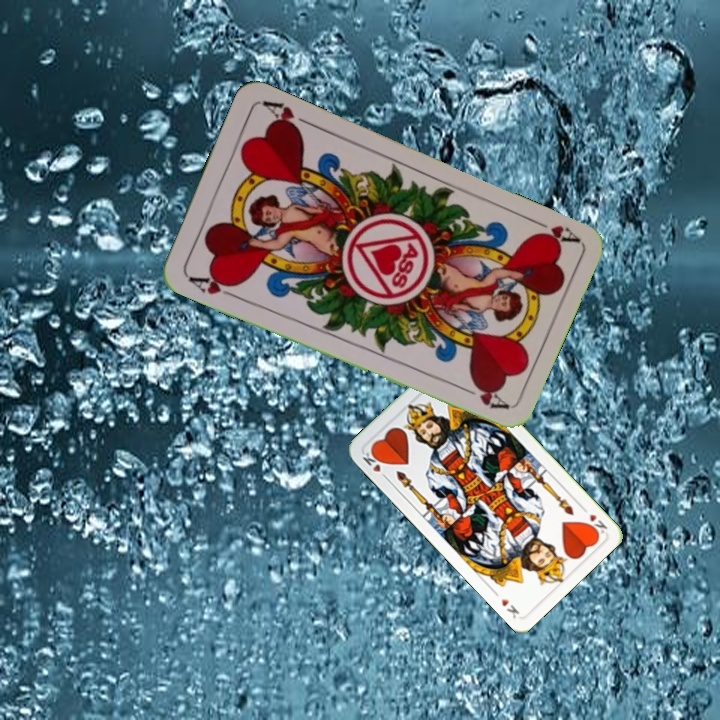HA: (524, 214, 581, 250), (182, 269, 241, 301)
HK: (577, 502, 610, 538), (359, 446, 391, 483)
